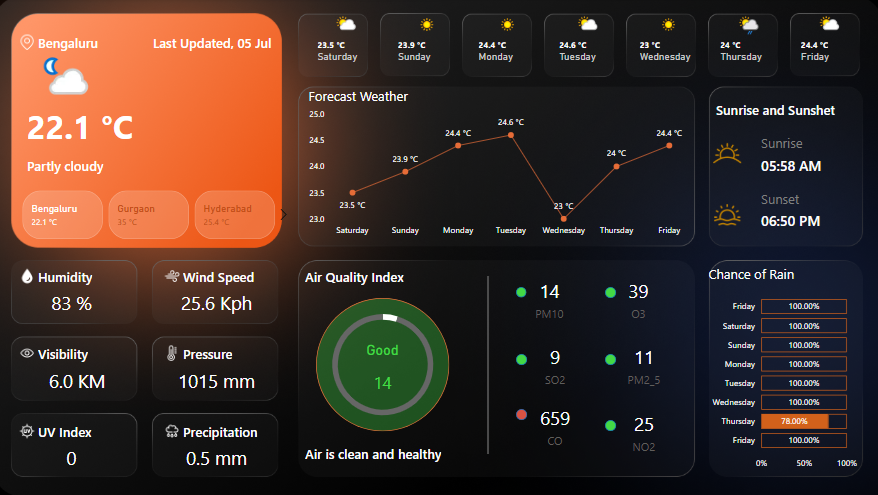

The page's visual inventory and layout, read from the dashboard file:
{"tool":"powerbi","page":{"name":"Live_Weather","canvas":[1280,720],"ordinal":0},"visuals":[{"type":"shape","box":[464,432,192,192],"z":0},{"type":"advancedSlicerVisual","fields":{"Values":["Locations.location.name"]},"box":[16,272,416,80],"z":1000},{"type":"shape","box":[48,144,176,80],"z":2000},{"type":"shape","box":[48,224,352,32],"z":3000},{"type":"shape","box":[192,48,208,32],"z":4000},{"type":"shape","box":[64,48,160,32],"z":5000},{"type":"image","box":[32,32,32,64],"z":6000},{"type":"cardVisual","fields":{"Data":["Min(Current.current.condition.icon)"]},"box":[32,64,128,96],"z":7000},{"type":"image","box":[32,496,32,32],"z":8000},{"type":"shape","box":[64,496,112,32],"z":9000},{"type":"image","box":[16,384,64,32],"z":10000},{"type":"image","box":[240,384,32,32],"z":11000},{"type":"image","box":[240,496,32,32],"z":12000},{"type":"image","box":[32,608,32,32],"z":13000},{"type":"image","box":[240,608,32,32],"z":14000},{"type":"shape","box":[272,496,80,32],"z":15000},{"type":"shape","box":[272,384,112,32],"z":16000},{"type":"shape","box":[64,384,112,32],"z":17000},{"type":"shape","box":[64,608,80,32],"z":18000},{"type":"shape","box":[272,608,112,32],"z":19000},{"type":"card","fields":{"Values":["_Measures.Humidity_Display"]},"box":[64,416,96,48],"z":20000},{"type":"card","fields":{"Values":["_Measures.UV_Index"]},"box":[64,640,96,48],"z":21000},{"type":"card","fields":{"Values":["_Measures.Visibility_Display"]},"box":[64,528,112,48],"z":22000},{"type":"card","fields":{"Values":["_Measures.Pressure_Display"]},"box":[256,528,128,48],"z":23000},{"type":"card","fields":{"Values":["_Measures.Wind_Speed"]},"box":[256,416,128,48],"z":24000},{"type":"card","fields":{"Values":["_Measures.Precipitation_Display"]},"box":[256,640,128,48],"z":25000},{"type":"advancedSlicerVisual","fields":{"Values":["Forecast_Day.Day_Name"]},"box":[448,16,816,96],"z":26000},{"type":"lineChart","title":"Forecast Weather","fields":{"Y":["Sum(Forecast_Day.forecast.forecastday.day.avgtemp_c)"],"Category":["Forecast_Day.Day_Name"]},"box":[448,128,560,224],"z":27000},{"type":"shape","box":[1040,144,192,32],"z":28000},{"type":"shape","title":"Sunrise","box":[1104,224,128,32],"z":29000},{"type":"shape","box":[1104,272,128,32],"z":30000},{"type":"shape","title":"Sunrise","box":[1104,192,128,32],"z":31000},{"type":"shape","box":[1104,304,128,32],"z":32000},{"type":"image","box":[1024,288,64,48],"z":33000},{"type":"image","box":[1024,192,64,64],"z":34000},{"type":"hundredPercentStackedBarChart","title":"Chance of Rain","fields":{"Y":["Sum(Forecast_Day.forecast.forecastday.day.daily_chance_of_rain)","_Measures.Left_Value_Rain"],"Category":["Forecast_Day.Day_Name"]},"box":[1024,384,224,304],"z":35000},{"type":"card","fields":{"Values":["Sum(Current.current.air_quality.o3)"]},"box":[880,384,96,96],"z":36000},{"type":"shape","box":[464,384,112,32],"z":37000},{"type":"shape","box":[448,384,192,32],"z":38000},{"type":"card","fields":{"Values":["Sum(Current.current.air_quality.pm2_5)"]},"box":[880,480,112,96],"z":39000},{"type":"card","fields":{"Values":["Sum(Current.current.air_quality.so2)"]},"box":[736,480,144,96],"z":40000},{"type":"card","fields":{"Values":["Sum(Current.current.air_quality.pm10)"]},"box":[736,384,128,96],"z":41000},{"type":"card","fields":{"Values":["Sum(Current.current.air_quality.no2)"]},"box":[880,576,112,96],"z":42000},{"type":"shape","box":[752,416,15,15],"z":43000},{"type":"shape","box":[752,512,16,16],"z":44000},{"type":"shape","box":[880,512,16,16],"z":45000},{"type":"shape","box":[880,416,16,16],"z":46000},{"type":"shape","box":[880,608,16,16],"z":47000},{"type":"card","fields":{"Values":["Sum(Current.current.air_quality.co)"]},"box":[752,560,112,112],"z":48000},{"type":"shape","box":[752,592,16,16],"z":49000},{"type":"shape","box":[640,400,144,256],"z":50000},{"type":"card","fields":{"Values":["Sum(Current.current.air_quality.pm10)"]},"box":[496,496,128,96],"z":51000},{"type":"donutChart","fields":{"Y":["Sum(Current.current.air_quality.pm10)","_Measures.Left_Value_PM10"]},"box":[448,432,224,192],"z":52000},{"type":"shape","box":[448,640,240,32],"z":53000}]}

Visuals, with their boxes in screenshot pixels (x1, y1, x2, y2), scaled from the page's 1280x720 canvas onto the 878x495 screenshot:
shape: (318,297,450,429)
advancedSlicerVisual - Locations.location.name: (11,187,296,242)
shape: (33,99,154,154)
shape: (33,154,274,176)
shape: (132,33,274,55)
shape: (44,33,154,55)
image: (22,22,44,66)
cardVisual - Min(Current.current.condition.icon): (22,44,110,110)
image: (22,341,44,363)
shape: (44,341,121,363)
image: (11,264,55,286)
image: (165,264,187,286)
image: (165,341,187,363)
image: (22,418,44,440)
image: (165,418,187,440)
shape: (187,341,241,363)
shape: (187,264,263,286)
shape: (44,264,121,286)
shape: (44,418,99,440)
shape: (187,418,263,440)
card - _Measures.Humidity_Display: (44,286,110,319)
card - _Measures.UV_Index: (44,440,110,473)
card - _Measures.Visibility_Display: (44,363,121,396)
card - _Measures.Pressure_Display: (176,363,263,396)
card - _Measures.Wind_Speed: (176,286,263,319)
card - _Measures.Precipitation_Display: (176,440,263,473)
advancedSlicerVisual - Forecast_Day.Day_Name: (307,11,867,77)
"Forecast Weather" lineChart: (307,88,691,242)
shape: (713,99,845,121)
"Sunrise" shape: (757,154,845,176)
shape: (757,187,845,209)
"Sunrise" shape: (757,132,845,154)
shape: (757,209,845,231)
image: (702,198,746,231)
image: (702,132,746,176)
"Chance of Rain" hundredPercentStackedBarChart: (702,264,856,473)
card - Sum(Current.current.air_quality.o3): (604,264,669,330)
shape: (318,264,395,286)
shape: (307,264,439,286)
card - Sum(Current.current.air_quality.pm2_5): (604,330,680,396)
card - Sum(Current.current.air_quality.so2): (505,330,604,396)
card - Sum(Current.current.air_quality.pm10): (505,264,593,330)
card - Sum(Current.current.air_quality.no2): (604,396,680,462)
shape: (516,286,526,296)
shape: (516,352,527,363)
shape: (604,352,615,363)
shape: (604,286,615,297)
shape: (604,418,615,429)
card - Sum(Current.current.air_quality.co): (516,385,593,462)
shape: (516,407,527,418)
shape: (439,275,538,451)
card - Sum(Current.current.air_quality.pm10): (340,341,428,407)
donutChart - Sum(Current.current.air_quality.pm10) x _Measures.Left_Value_PM10: (307,297,461,429)
shape: (307,440,472,462)
